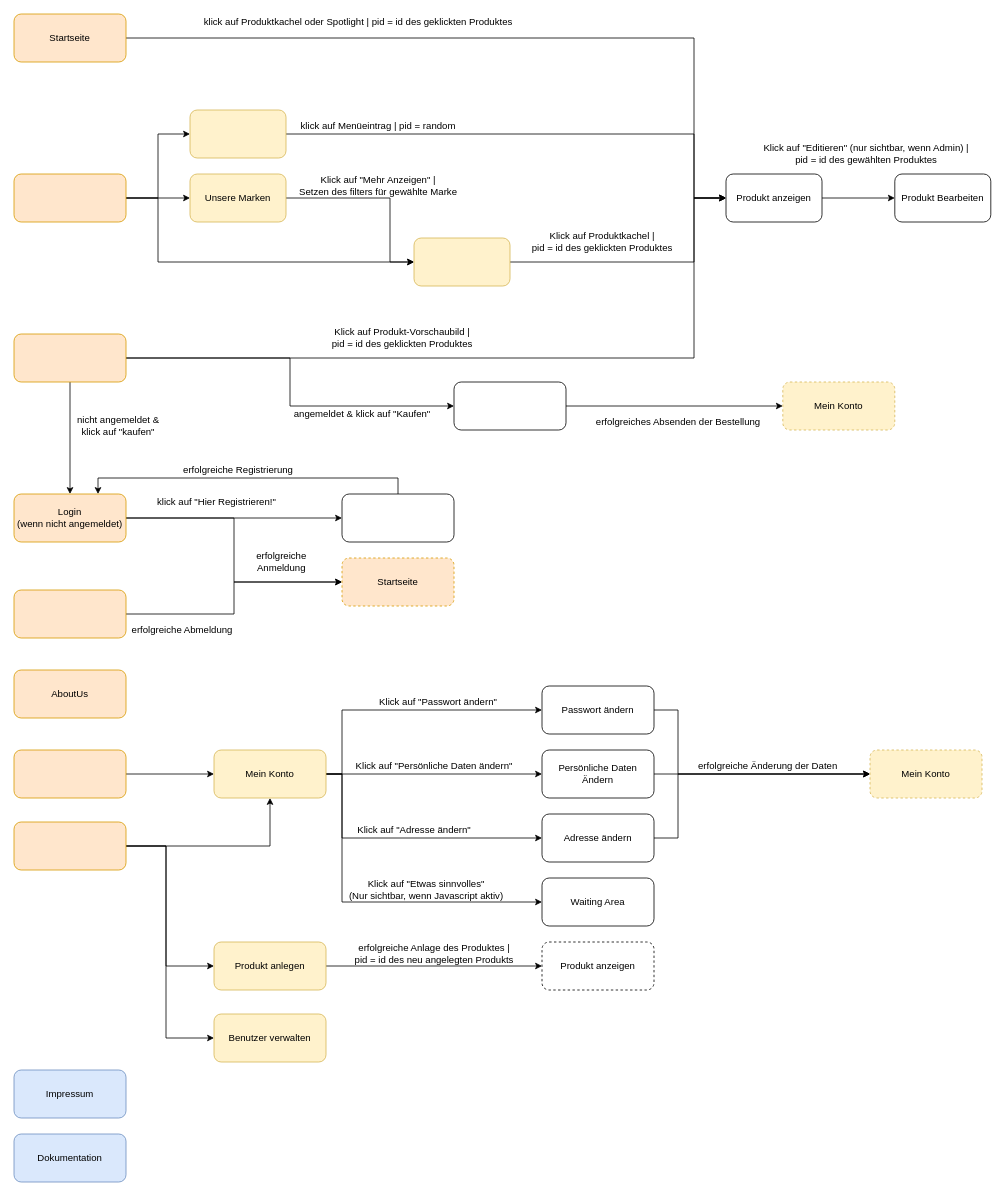
Image size: 1005x1196. Some labels were removed from this diagram. Here are the shapes that lost their labels. From the top down, the centre of each, then its label:
At pixel 237 133: "Zufälliges Produkt".
At pixel 69 197: "Produkte".
At pixel 461 261: "Alle Produkte".
At pixel 69 357: "Warenkorb".
At pixel 509 405: "Bestellung bestätigen".
At pixel 397 517: "Registrierung".
At pixel 69 613: "Logout (wenn angemeldet)".
At pixel 69 773: "Mein Konto (Nur als Haupteintrag, wenn Nutzer kein Admin ist)".
At pixel 69 845: "Administration (Nur sichtbar, wenn Nutzer Admin ist)".
